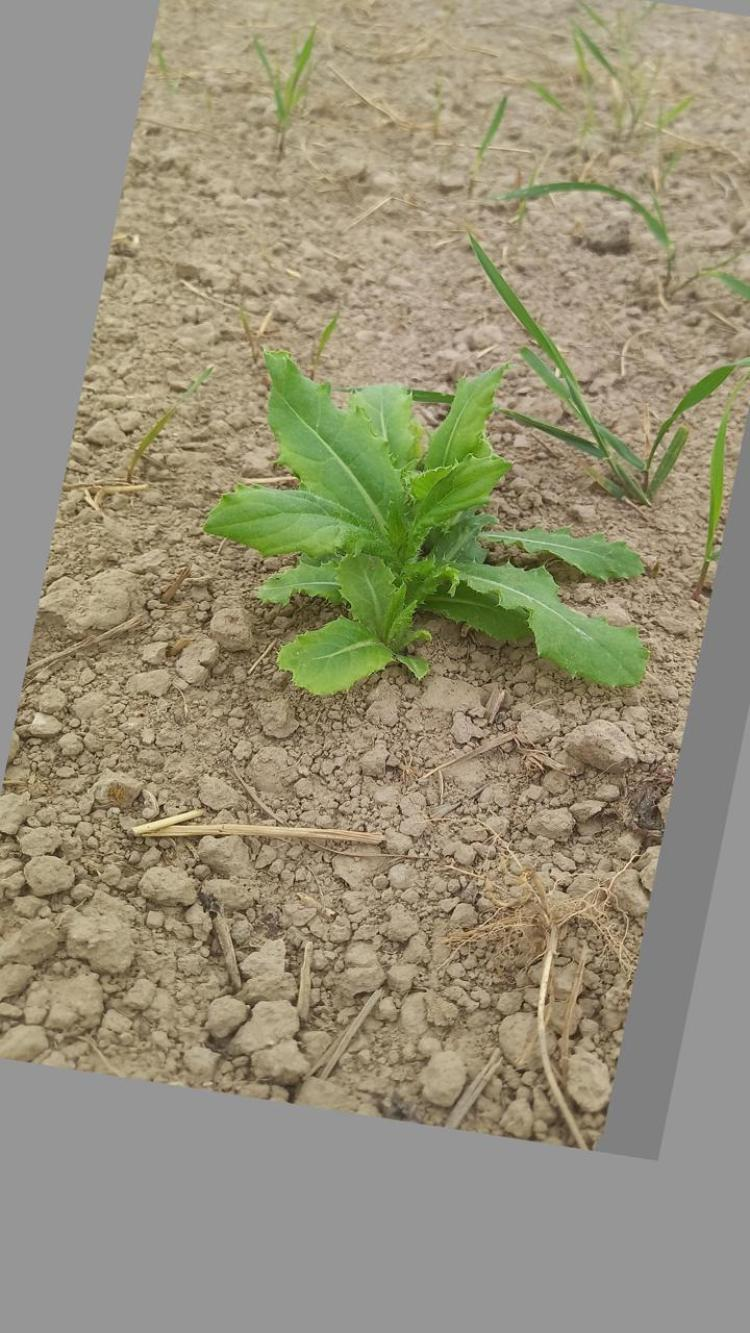bodyak: (204, 329, 652, 727)
